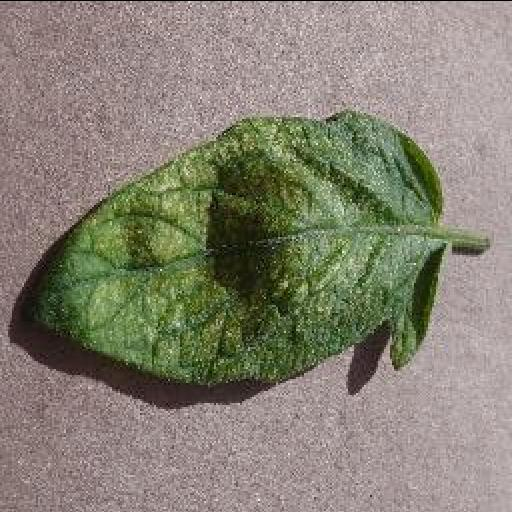disease_tomato: (36, 110, 442, 390)
